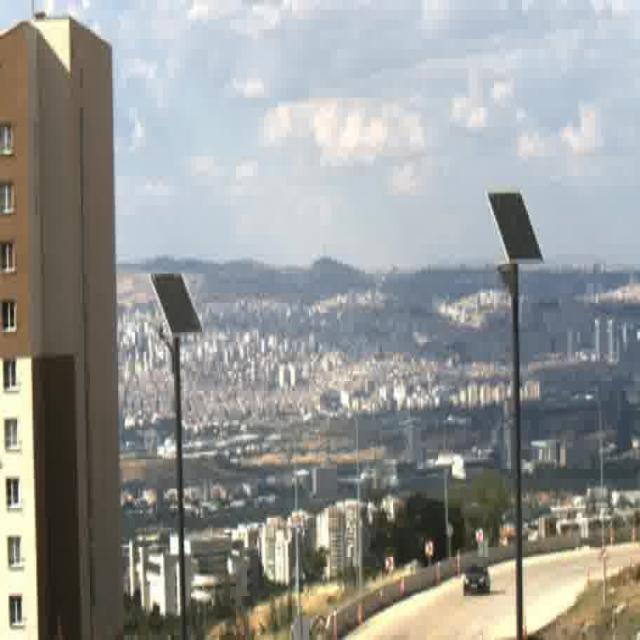Car: (463, 566, 489, 594)
